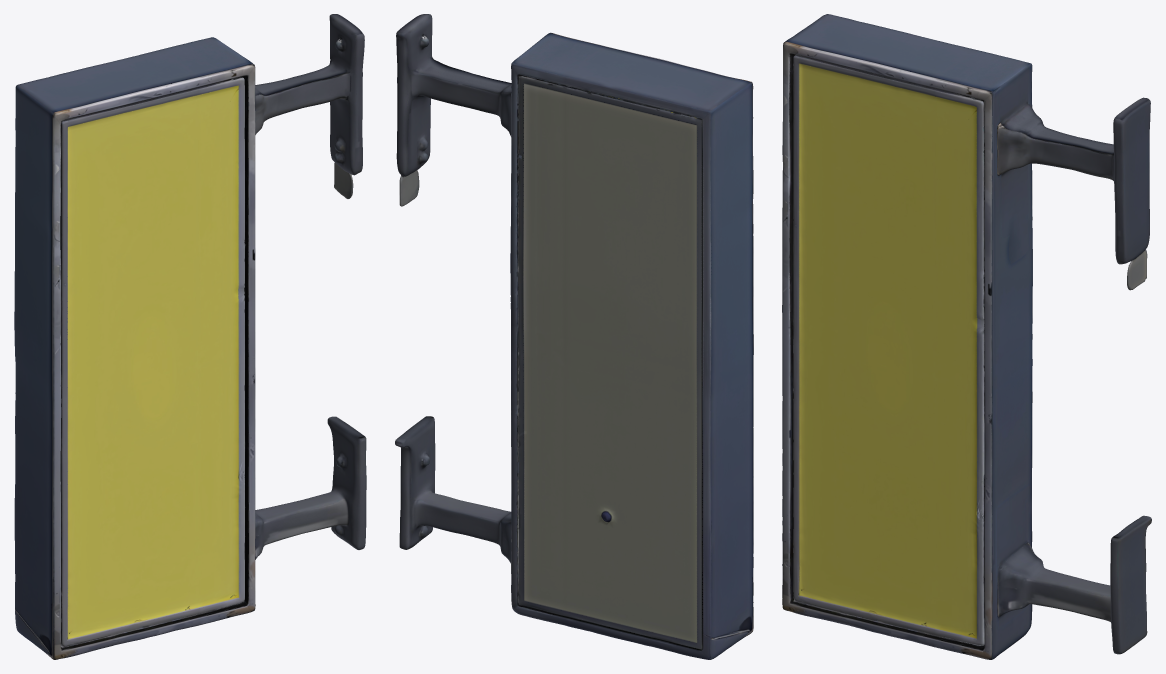
The model's file is vertical_lightbox_sign_3d_model.fbx.
3 views of the same model, side by side, from view 1: azimuth 30°, elevation 25°; view 2: azimuth 150°, elevation 25°; view 3: azimuth 330°, elevation 25° (orthographic). The views are drawn at different scales.
Visible parts, largest first — view 1: tripo_node_b0030d3b; view 2: tripo_node_b0030d3b; view 3: tripo_node_b0030d3b.
Part boxes in pixels (box(x1,y1,x2,y2)): tripo_node_b0030d3b: box(14, 14, 366, 659); tripo_node_b0030d3b: box(395, 14, 753, 659); tripo_node_b0030d3b: box(782, 14, 1151, 659).
Size of the model in its own units: 0.5998 by 0.9798 by 0.1407.
